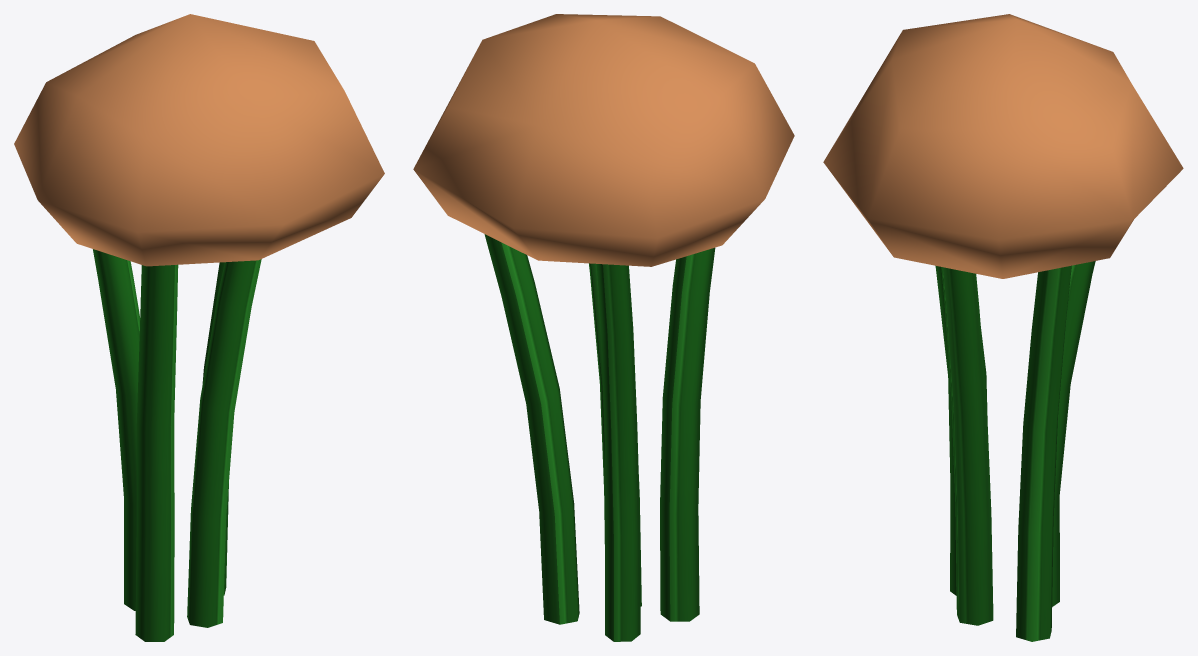
File: Furniture_Plants_35.fbx
The picture shows the model from 3 angles, left to right: view 1: azimuth 30°, elevation 25°; view 2: azimuth 150°, elevation 25°; view 3: azimuth 270°, elevation 25°; orthographic projection.
Parts seen in each view (by area): view 1: Furniture_Plants_35; view 2: Furniture_Plants_35; view 3: Furniture_Plants_35.
Boxes of the visible parts, <box> form: Furniture_Plants_35: <box>14,14,384,641</box>; Furniture_Plants_35: <box>413,14,794,641</box>; Furniture_Plants_35: <box>823,14,1183,641</box>.
Size of the model in its own units: 213 by 378 by 205.
